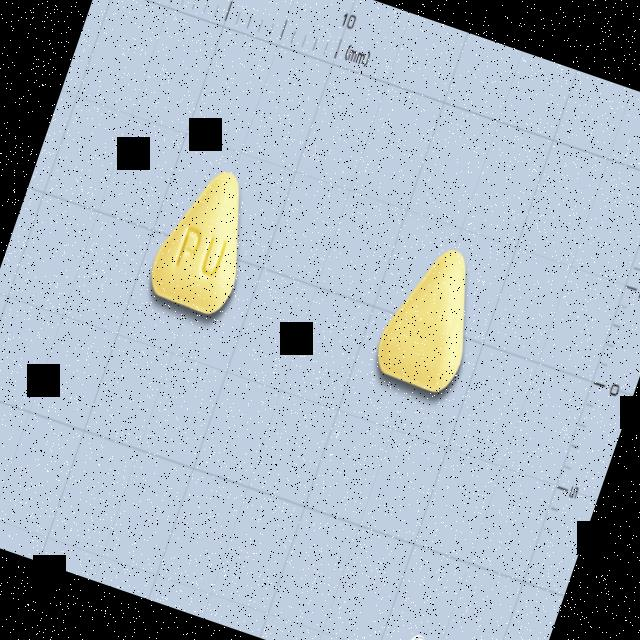Rheumakin Tab-20mg: (143, 156, 269, 318)
